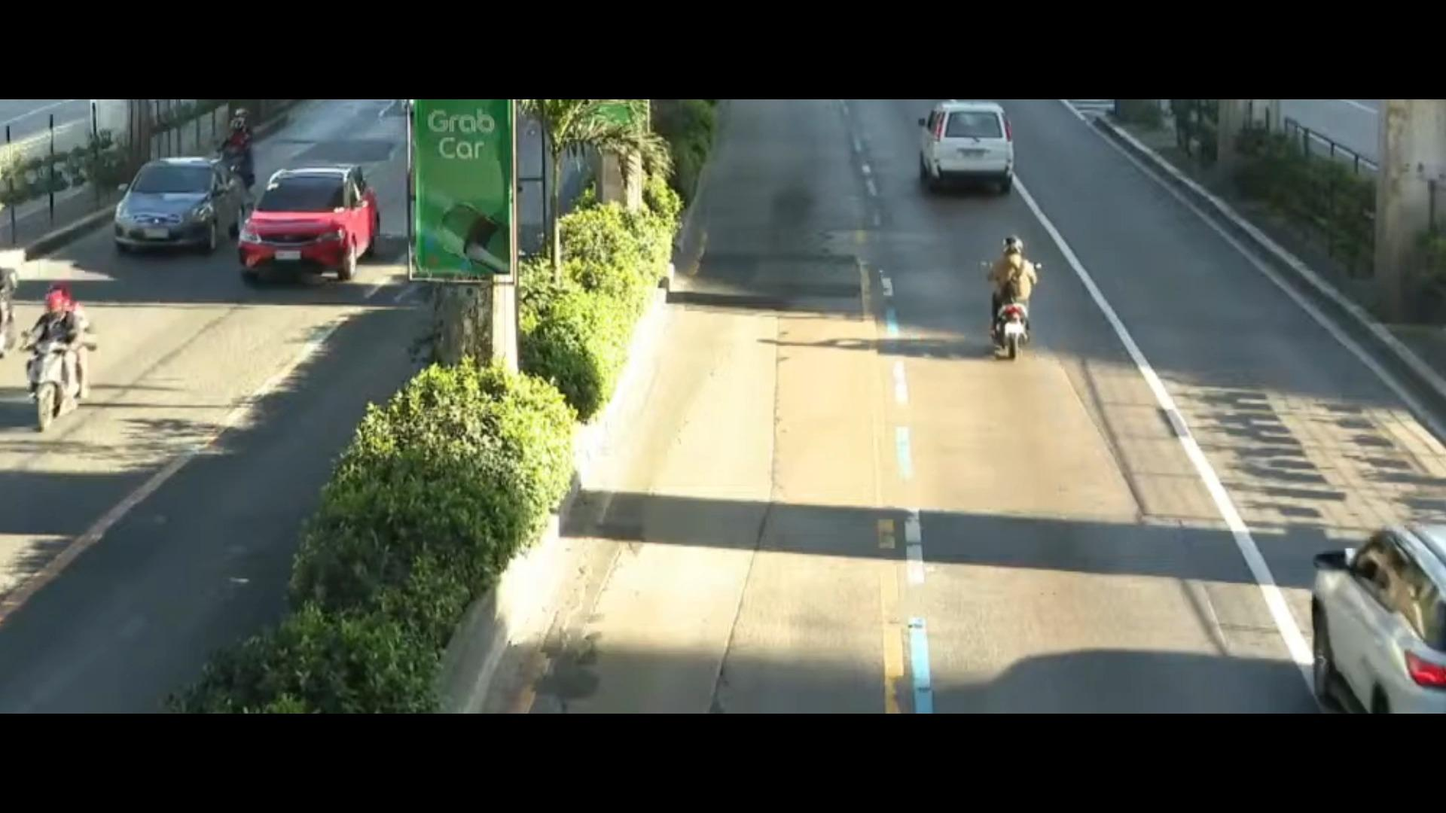Motorcycle: (955, 215, 1064, 378), (25, 277, 102, 453), (219, 102, 260, 176)
SUV: (1269, 495, 1446, 703), (213, 157, 386, 294)
Sedan: (96, 136, 260, 256), (896, 96, 1028, 188)
